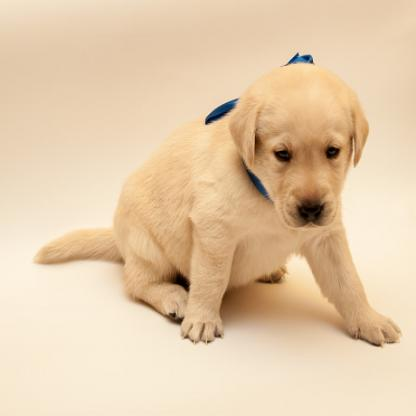Labarador Retriever: (26, 68, 397, 347)
